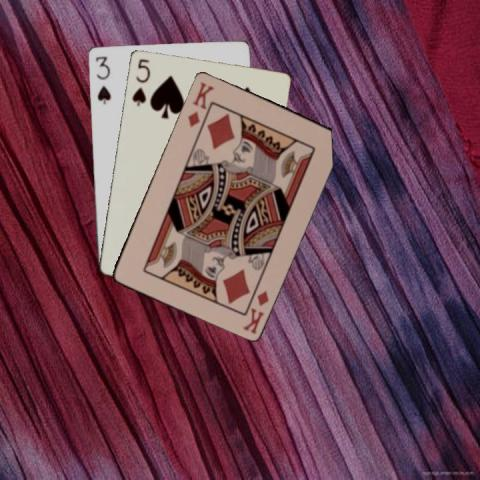3s: (93, 52, 112, 104)
5s: (129, 56, 151, 108)
Kd: (239, 278, 271, 335), (185, 78, 215, 129)
